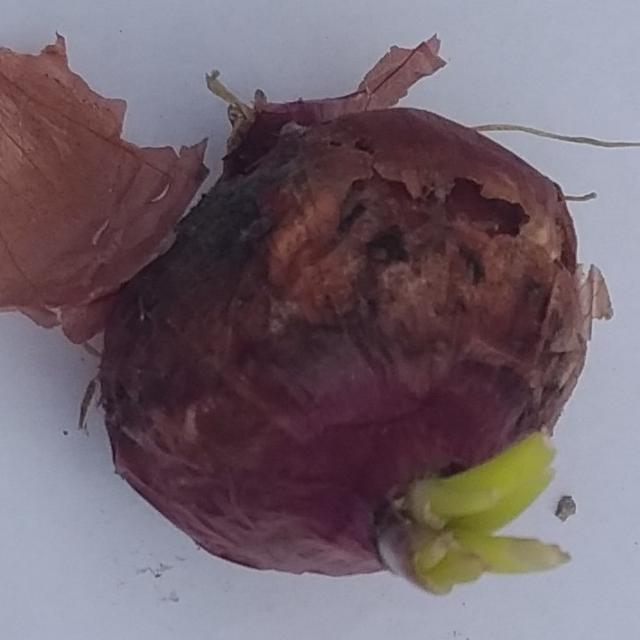onion: (1, 34, 614, 601)
